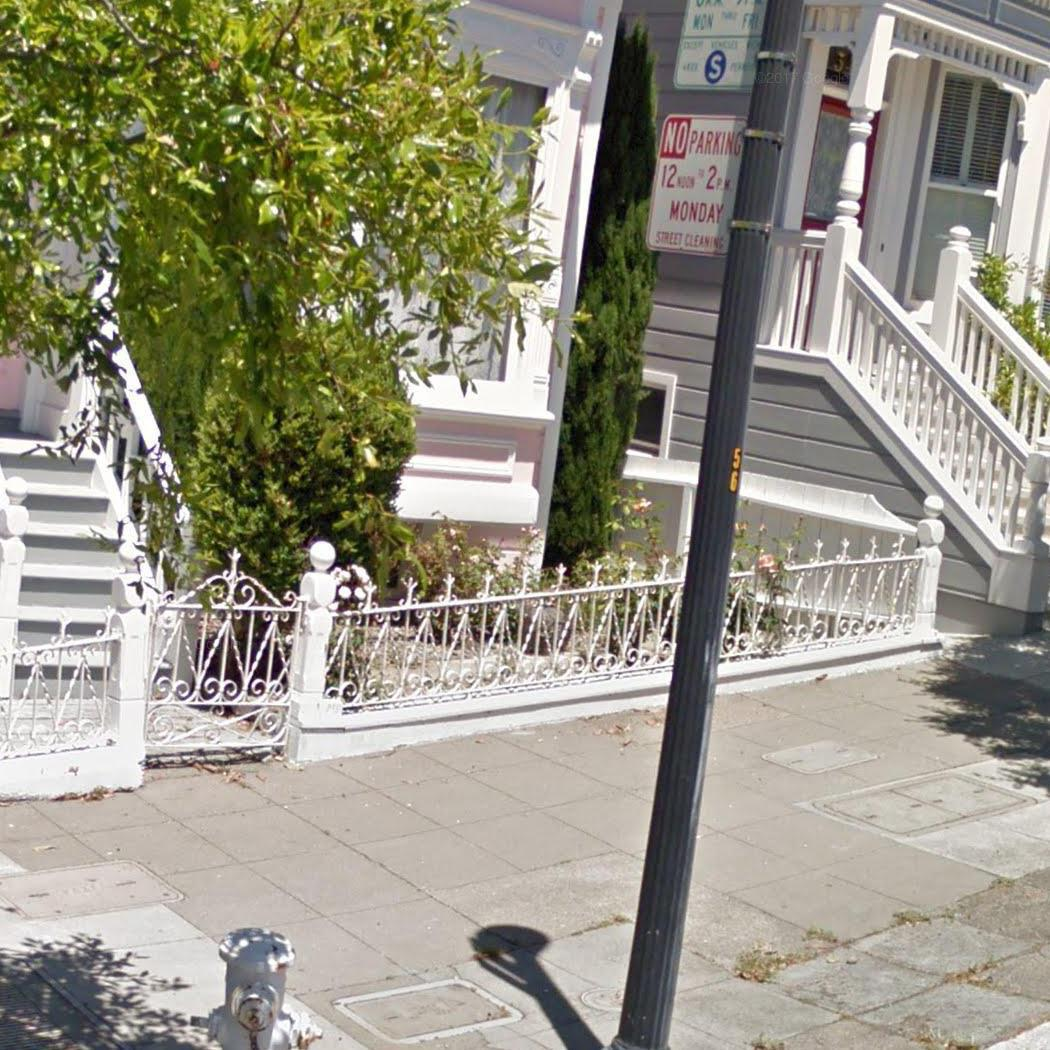2 Hour Parking: (671, 0, 771, 90)
No Parking: (645, 113, 755, 258)
